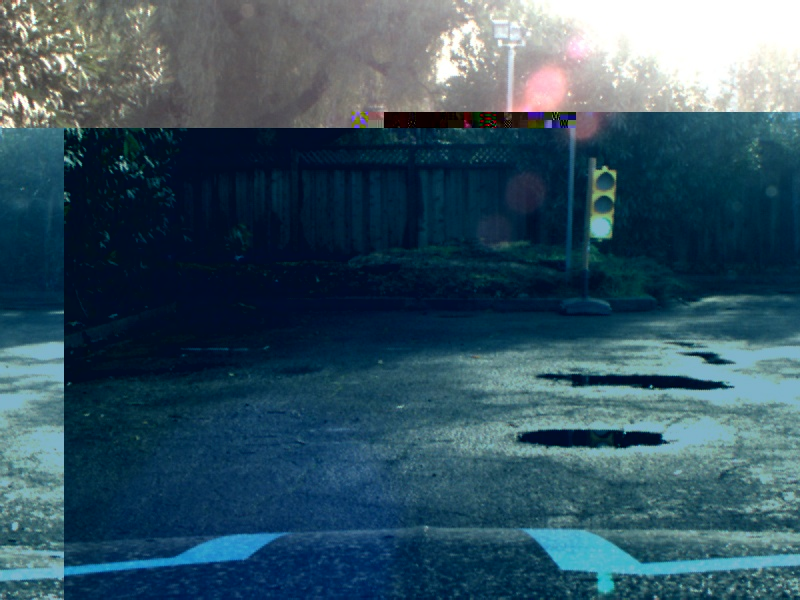Green: (590, 169, 614, 238)
